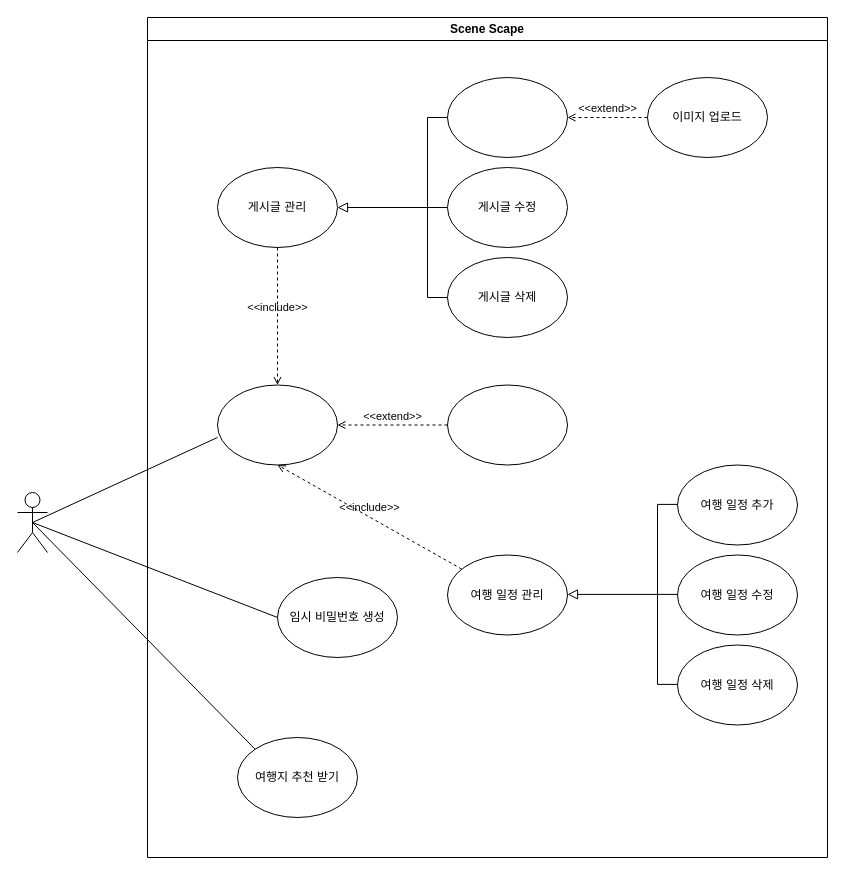
Image size: 845x875. Some labels were removed from this diagram. The shapes that lost their labels are listed below. From the top down, each one's box as (x1, y1, x2, y2) in pixels, then its label:
(446, 76, 568, 158): 게시글 작성
(216, 384, 338, 465): 로그인
(446, 384, 568, 465): 회원정보 수정
(16, 492, 48, 552): User
